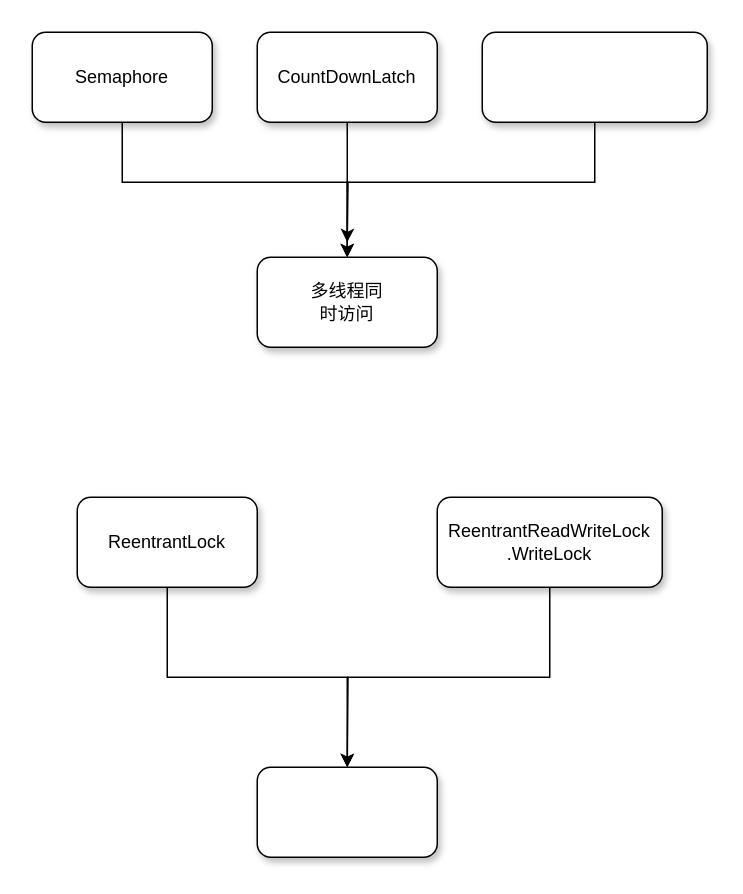
This 743x894 diagram has some shape labels left out. The shapes that lost their labels are listed below. From the top down, each one's centre as x and y in pixels, then its label:
point 595,79: ReentrantReadWriteLock .ReadLock
point 348,814: 单线程访问
